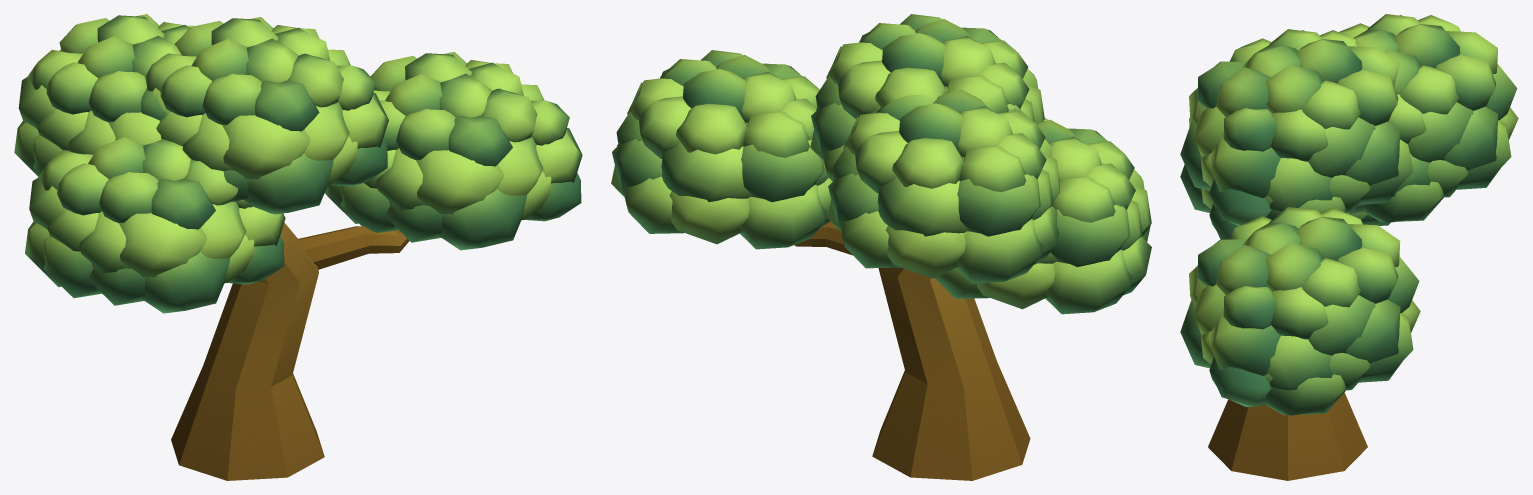
The model's file is Tree_1.fbx.
3 renders of one model, left to right at view 1: azimuth 30°, elevation 25°; view 2: azimuth 150°, elevation 25°; view 3: azimuth 270°, elevation 25°, orthographic. The views are drawn at different scales.
Parts seen in each view (by area): view 1: pCube86; view 2: pCube86; view 3: pCube86.
Boxes of the visible parts, x1,y1,x2,y2 form: pCube86: [14, 14, 582, 480]; pCube86: [611, 14, 1151, 480]; pCube86: [1180, 14, 1518, 480].
Bounding box in the file's own units: 725 × 554 × 410.
